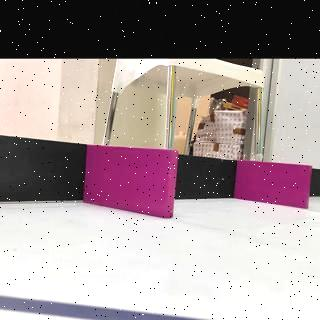xparking: (86, 150, 173, 212), (238, 166, 310, 205)
